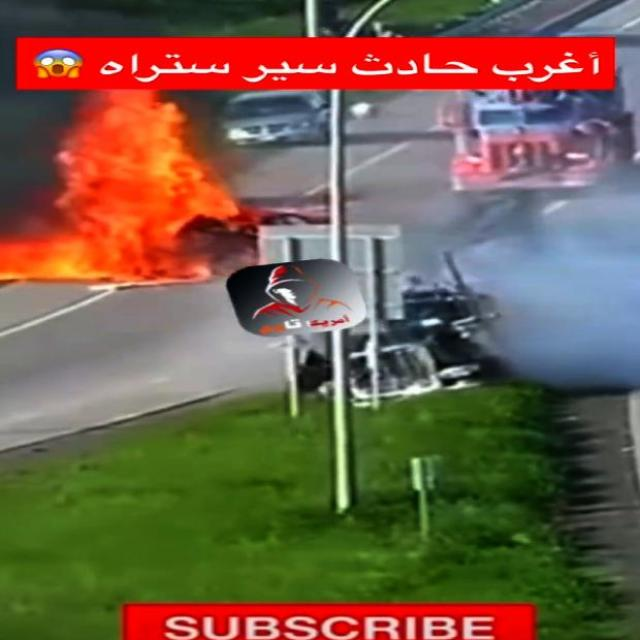accident: (265, 195, 635, 403), (1, 99, 247, 285)
